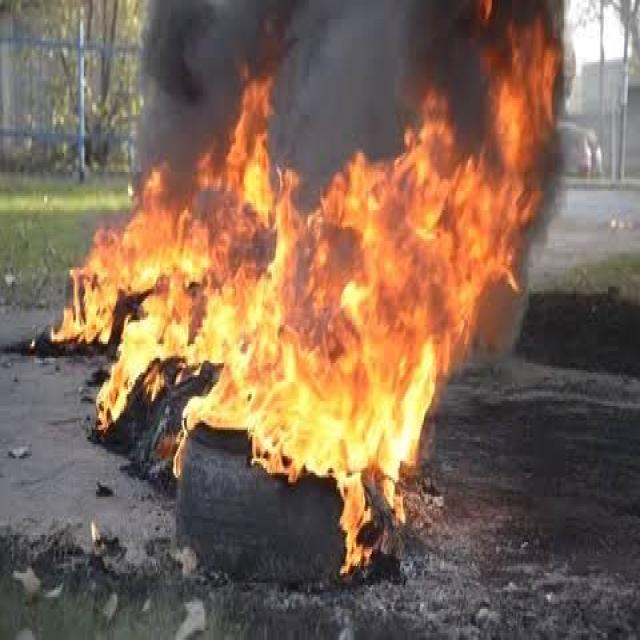fire: (188, 148, 468, 364), (469, 0, 561, 341), (51, 161, 210, 343), (174, 364, 303, 481), (302, 365, 435, 475), (97, 282, 188, 431), (334, 472, 407, 575), (228, 63, 275, 147), (405, 83, 455, 148)
